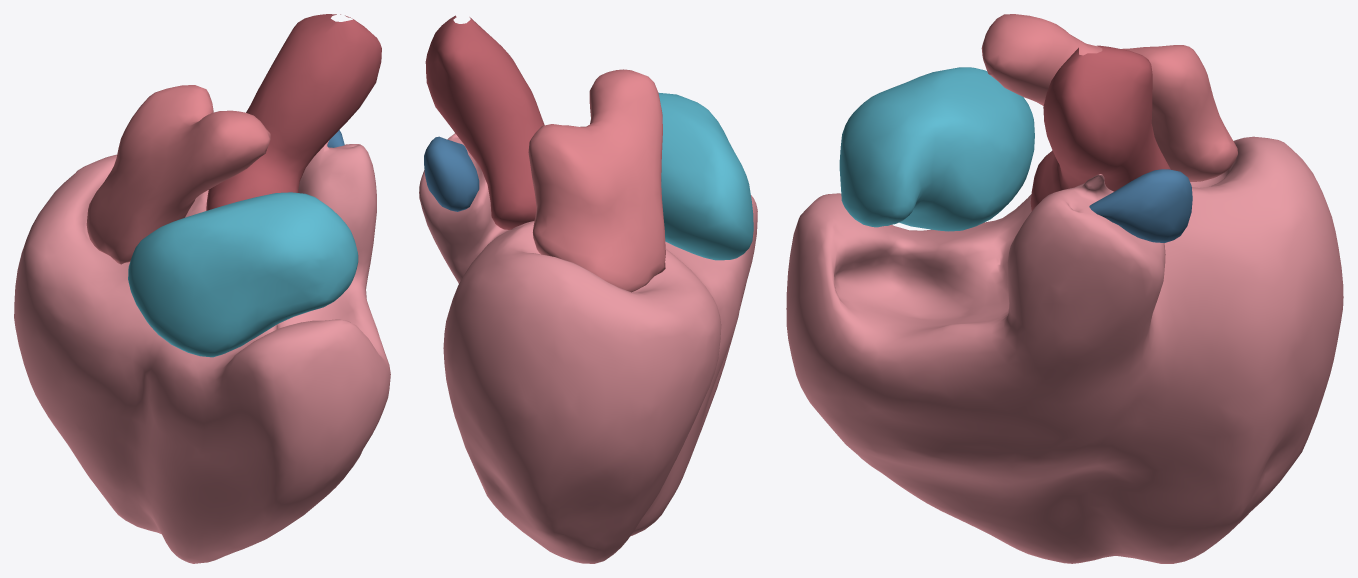
The model's file is frame_51.glb.
The picture shows the model from 3 angles, left to right: view 1: azimuth 30°, elevation 25°; view 2: azimuth 150°, elevation 25°; view 3: azimuth 270°, elevation 25°; orthographic projection. The views are drawn at different scales.
Parts seen in each view (by area): view 1: Renderer Node; view 2: Renderer Node; view 3: Renderer Node.
Boxes of the visible parts, x1,y1,x2,y2 form: Renderer Node: (14, 14, 390, 563); Renderer Node: (419, 15, 757, 563); Renderer Node: (786, 14, 1343, 563).
Size of the model in its own units: 107 by 164 by 137.
